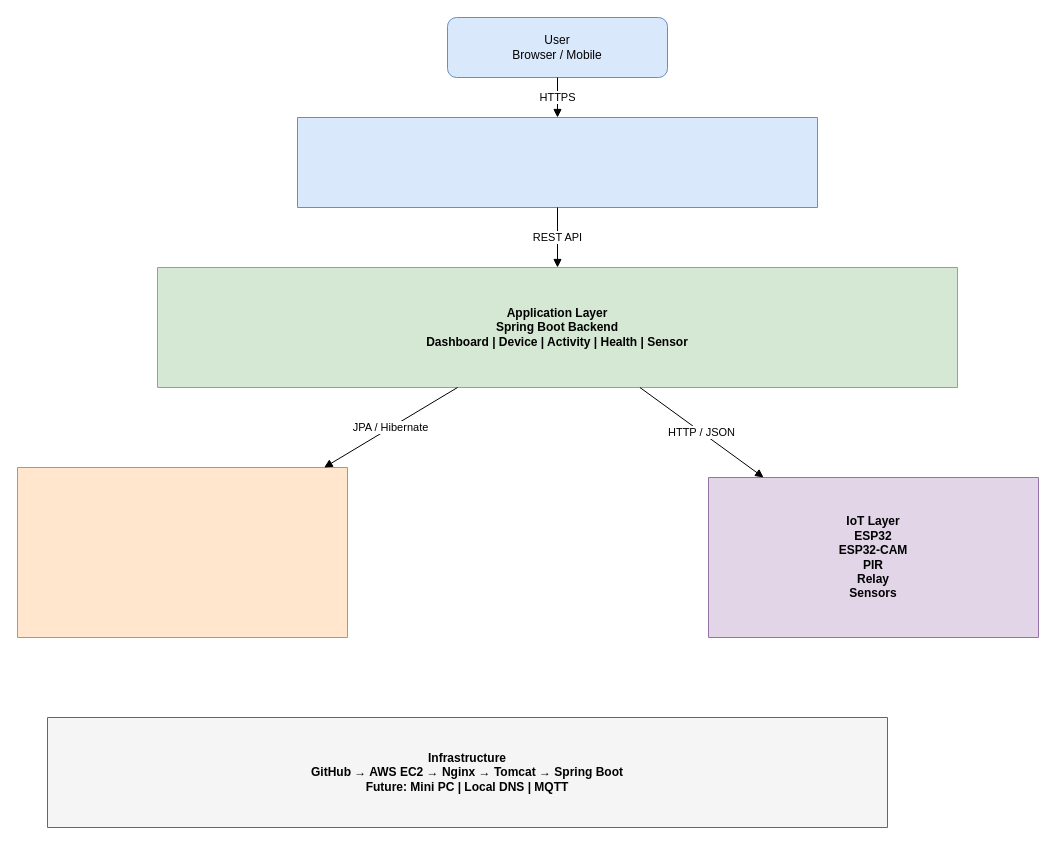
This 1056x845 diagram has some shape labels left out. The centre of each missing label's shape, as x and y in pixels:
"Data Layer MySQL Device Activity HealthMetric SensorReading" goes at (182,552).
"Presentation Layer React Dashboard" goes at (557,162).
